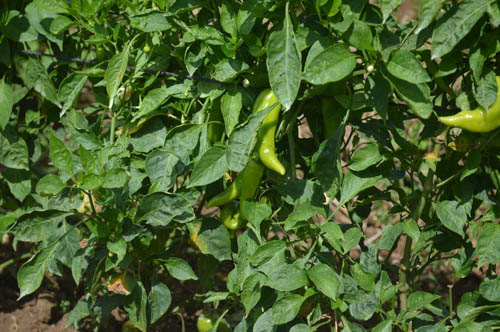ChiliPepper: (435, 89, 498, 144), (254, 90, 288, 173), (240, 161, 269, 208), (207, 177, 240, 209), (219, 209, 245, 230)
